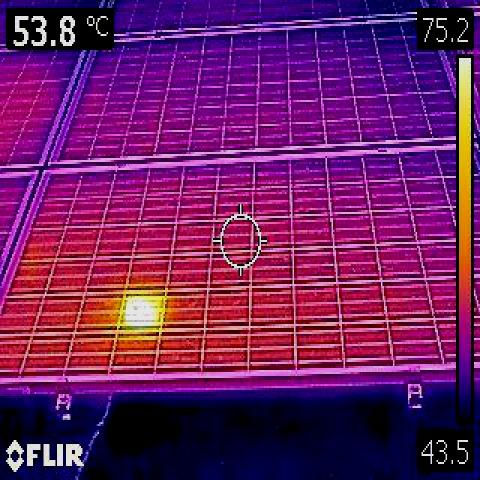fault: (126, 297, 162, 325)
